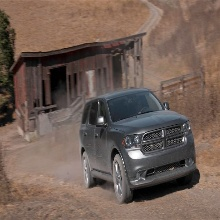no damage: (77, 88, 199, 201)
